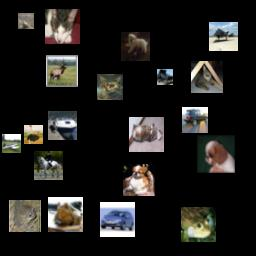airplane: (209, 22, 238, 51), (2, 134, 21, 153)
automobile: (100, 202, 135, 237), (182, 107, 208, 133)
bird: (24, 125, 43, 144), (18, 13, 34, 29)
cat: (129, 117, 164, 152), (45, 9, 80, 44), (191, 61, 223, 93), (97, 74, 123, 100)
deer: (46, 55, 78, 87)
dog: (197, 135, 235, 173), (123, 164, 155, 196), (121, 32, 150, 61)
frog: (48, 197, 83, 232), (181, 207, 216, 242), (9, 200, 41, 232)
ship: (48, 111, 77, 140)
truck: (157, 69, 173, 85)
